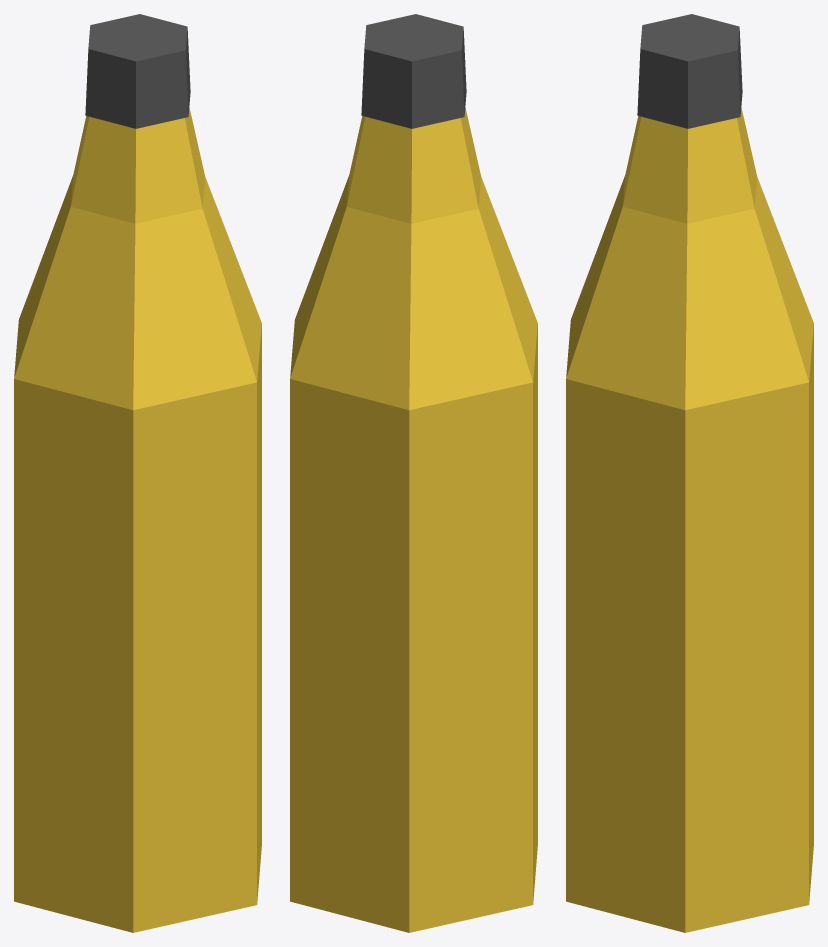
Rendered from Bathroom2_bottle6.fbx.
3 views of the same model, side by side, from view 1: azimuth 30°, elevation 25°; view 2: azimuth 150°, elevation 25°; view 3: azimuth 270°, elevation 25° (orthographic).
Parts seen in each view (by area): view 1: Bathroom2_bottle; view 2: Bathroom2_bottle; view 3: Bathroom2_bottle.
Boxes of the visible parts, x1,y1,x2,y2 form: Bathroom2_bottle: (14, 14, 261, 932); Bathroom2_bottle: (290, 14, 537, 932); Bathroom2_bottle: (566, 14, 813, 932).
Size of the model in its own units: 9.8 by 8.65 by 32.19.
